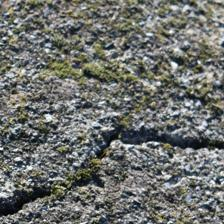Crack: (0, 72, 88, 150), (39, 97, 86, 135)
